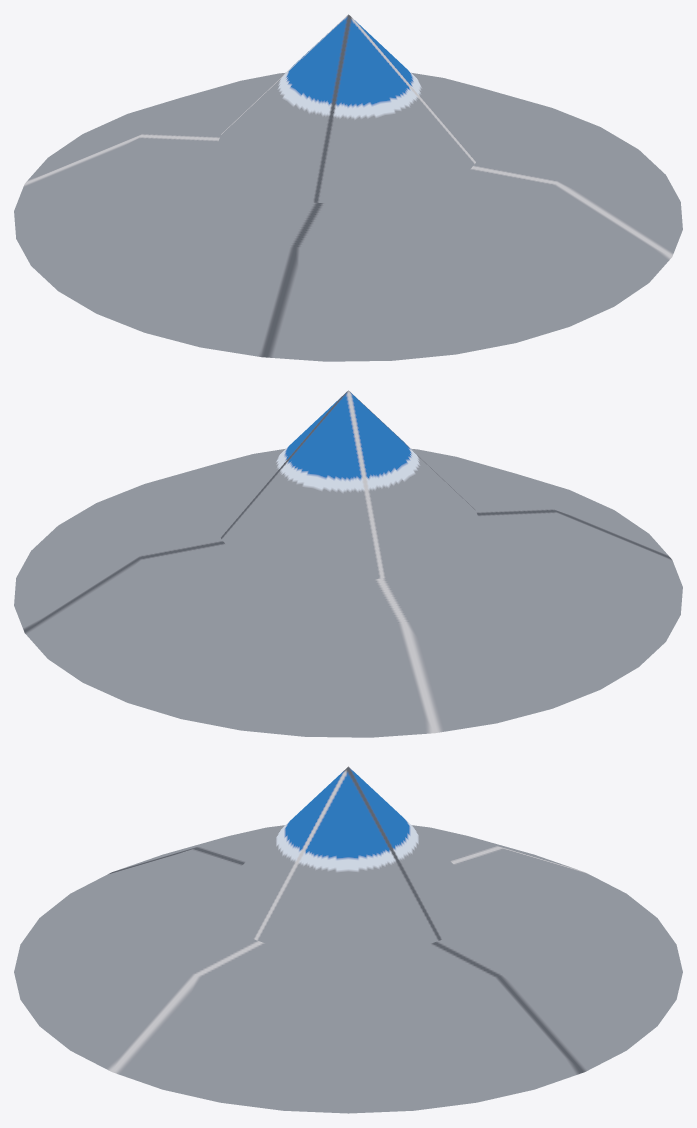
The model's file is ufo.gltf.
3 views of the same model, one above another, from view 1: azimuth 30°, elevation 25°; view 2: azimuth 150°, elevation 25°; view 3: azimuth 270°, elevation 25° (orthographic).
Parts seen in each view (by area): view 1: Textured UFO Model; view 2: Textured UFO Model; view 3: Textured UFO Model.
Part boxes in pixels (x1,y1,x2,y2): Textured UFO Model: [14, 14, 682, 361]; Textured UFO Model: [14, 390, 682, 737]; Textured UFO Model: [14, 766, 682, 1113].
Bounding box in the file's own units: 2.8 × 1.1 × 2.8.
1 material, 1 textured.
